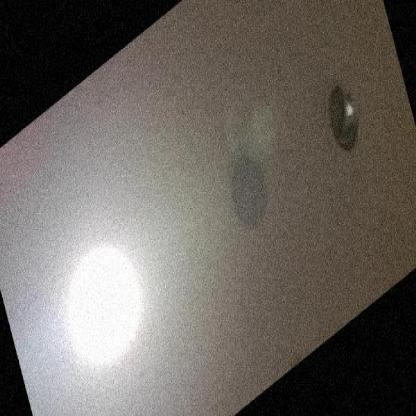light_off: (304, 50, 376, 184)
